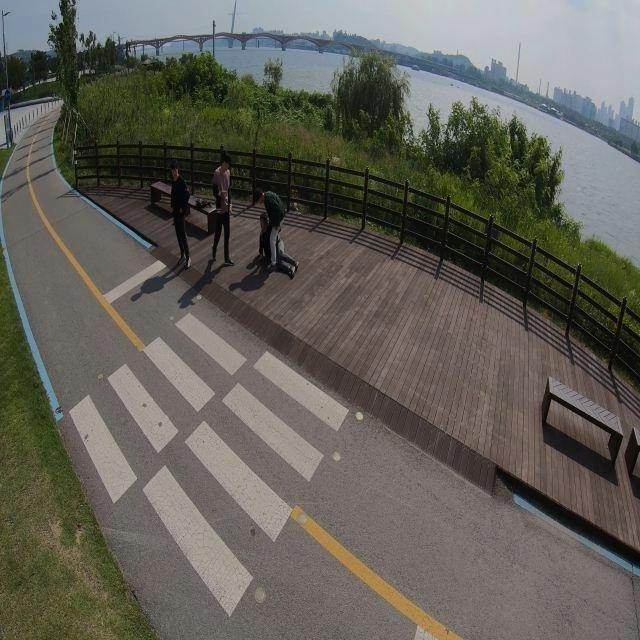fight: (253, 186, 297, 278)
non-fight: (207, 155, 234, 268), (169, 163, 192, 268)
